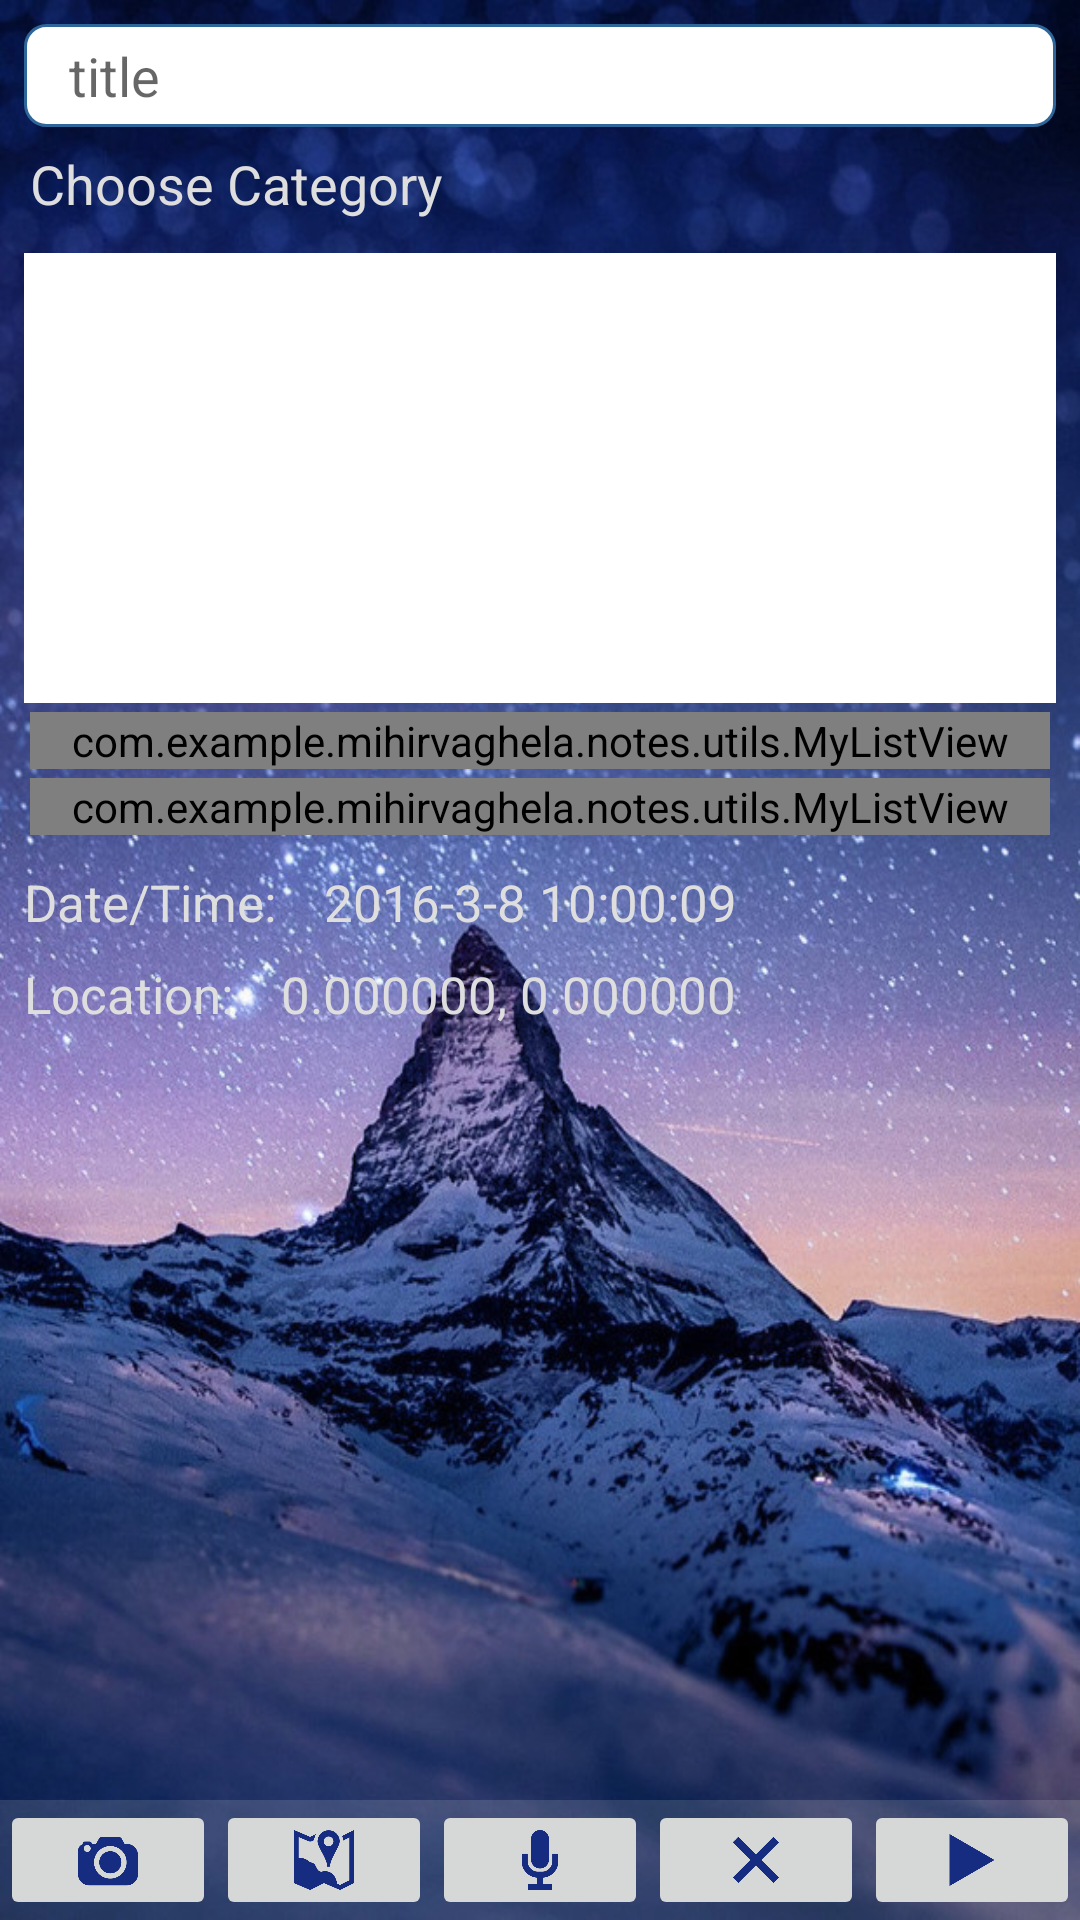

Icons on this 1080x1920 Android screen, each with the point to tap as (x=x, y=y):
camera: (x=108, y=1860)
del: (x=762, y=1851)
map: (x=324, y=1860)
play: (x=972, y=1860)
rec: (x=540, y=1860)
